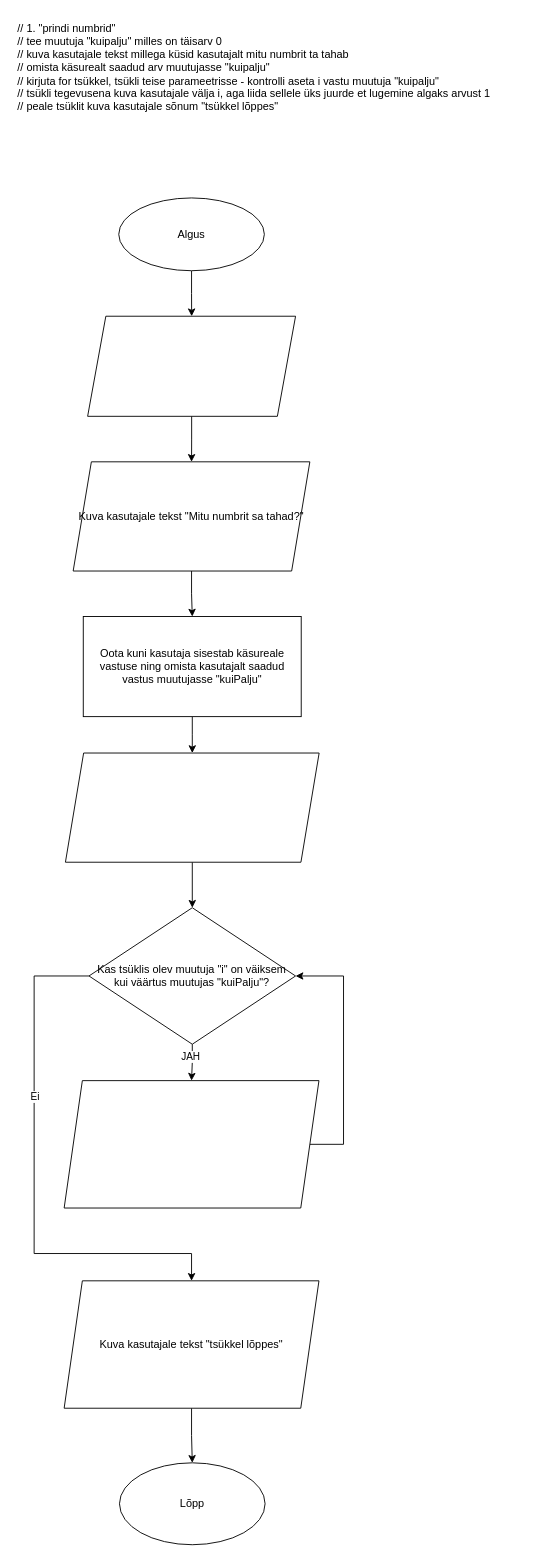
Image size: 541x1561. Some labels were removed from this diagram. The shapes that lost their labels are listed below. From the top down, each one's centre as x and y in pixels, then its label:
point 191,365: Tekita täiisarvu muutuja "kuipalju" millele omistatakse algväärtuse 0
point 192,807: Seaditsta for-tsükkel, mille on tsükli töö jaoks muutuja "i"
point 191,1144: Kuva kasutajale välja muutuja "i" väärtus, kujul millele liidad ühe juurde: i+1
